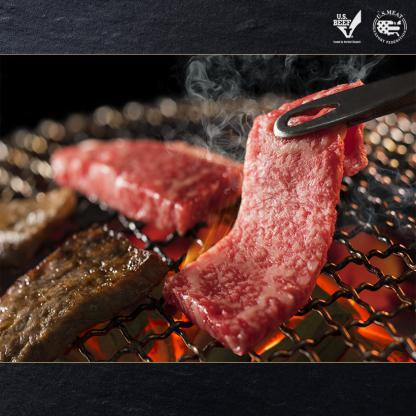beef: (216, 98, 342, 364), (57, 121, 246, 238)
